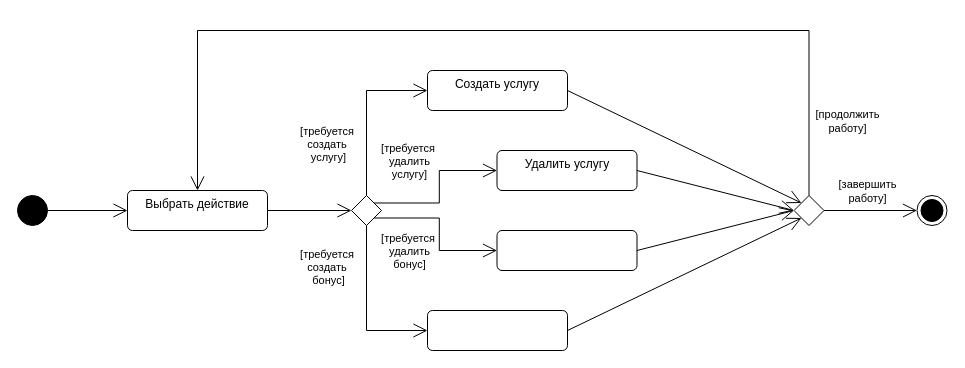
The diagram is 965 pixels wide and 368 high, and some of its shapes have lost their labels. Each missing label, with the box of its shape:
Создать бонус: (426, 310, 568, 350)
Удалить бонус: (496, 230, 637, 270)
